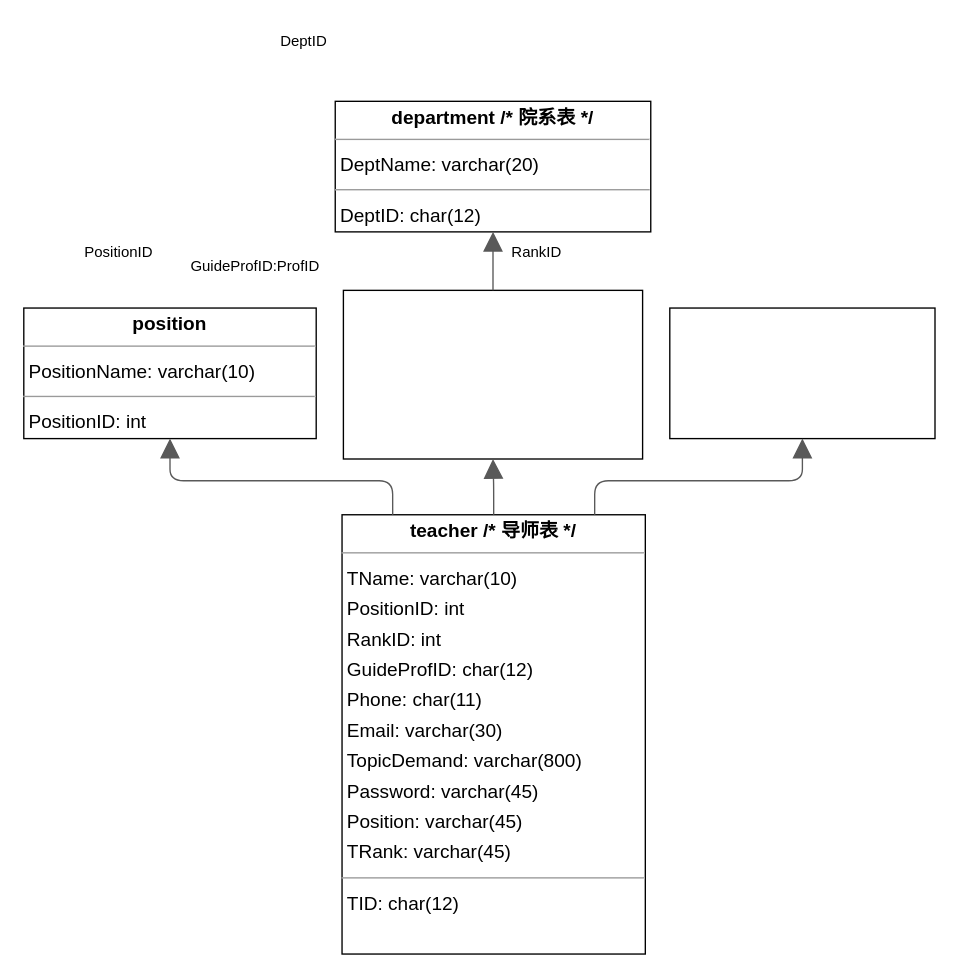
This 959x978 diagram has some shape labels left out. Here are the shapes that lost their labels. From the top down, the box of each, then its label:
(342, 289, 643, 459): profession /* 专业表 */ ProfName: varchar(20) DeptID: char(12) ProfID: char(12)
(668, 307, 935, 439): rank RankName: varchar(10) RankID: int
